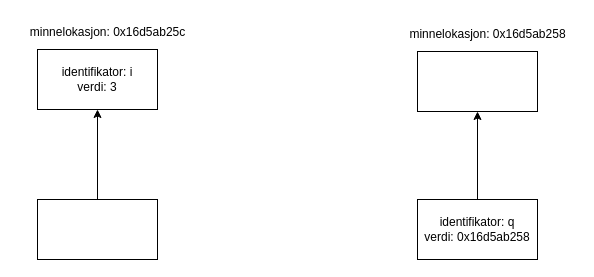
Some shapes in this 594 by 277 pixel diagram are drawn without their labels. Here are the shapes that lost their labels. From the top down, the centre of each, then its label:
At point (477, 81): "identifikator: j verdi: 5".
At point (97, 229): "identifikator: p verdi: 0x16d5ab25c".
